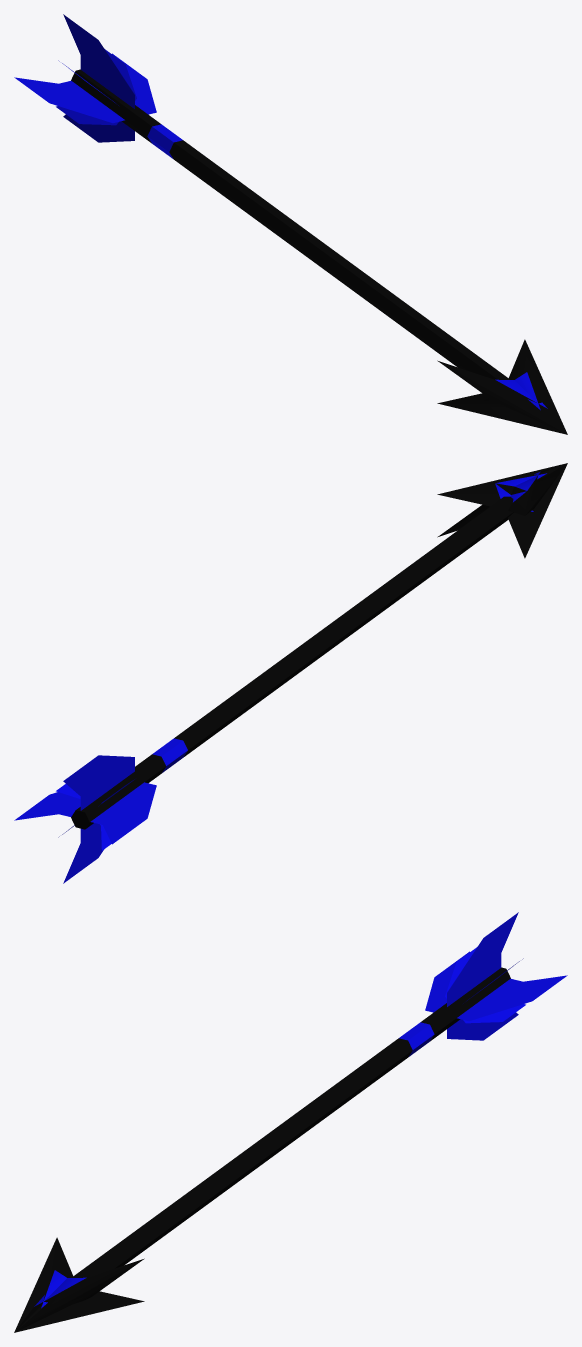
File: projectile_arrow.fbx
3 views of the same model, one above another, from view 1: azimuth 30°, elevation 25°; view 2: azimuth 150°, elevation 25°; view 3: azimuth 330°, elevation 25° (orthographic).
Parts seen in each view (by area): view 1: projectile_arrow; view 2: projectile_arrow; view 3: projectile_arrow.
Boxes of the visible parts, left/top/right/bottom form: projectile_arrow: left=14, top=14, right=567, bottom=434; projectile_arrow: left=14, top=463, right=567, bottom=883; projectile_arrow: left=14, top=912, right=567, bottom=1332.
Size of the model in its own units: 0.7788 by 0.7788 by 6.94.
